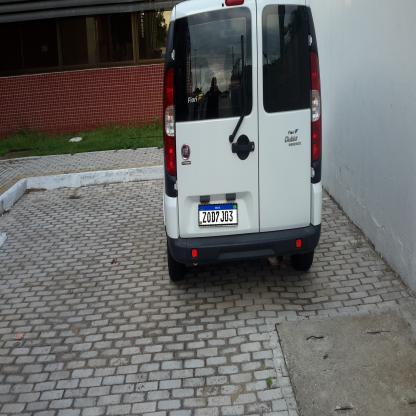PlacaM: (198, 203, 238, 226)
